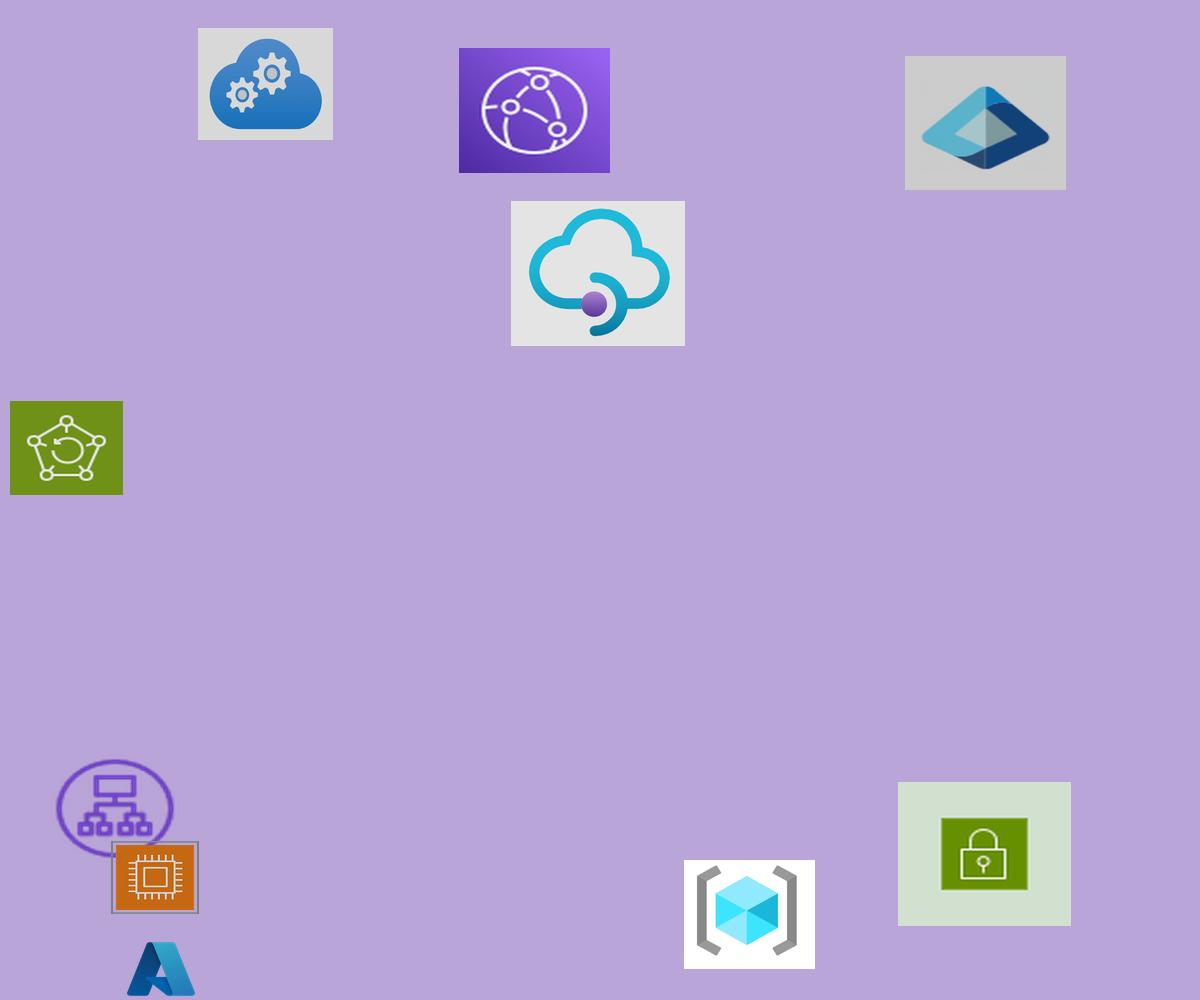AWS-Backup: (10, 401, 123, 495)
AWS-Category_Compute: (111, 841, 199, 914)
AWS-CloudFront: (459, 48, 610, 173)
AWS-Public-subnet: (898, 782, 1071, 926)
AWS-Res_Elastic-Load-Balancing_Application-Load-Balancer: (51, 755, 179, 862)
Azure_api_gateway: (511, 201, 685, 346)
Azure_cloud_services: (198, 28, 333, 140)
Azure_microsoft_entra: (905, 56, 1066, 190)
Azure_resource_group: (684, 860, 815, 969)
Azure_services: (124, 938, 198, 1000)
